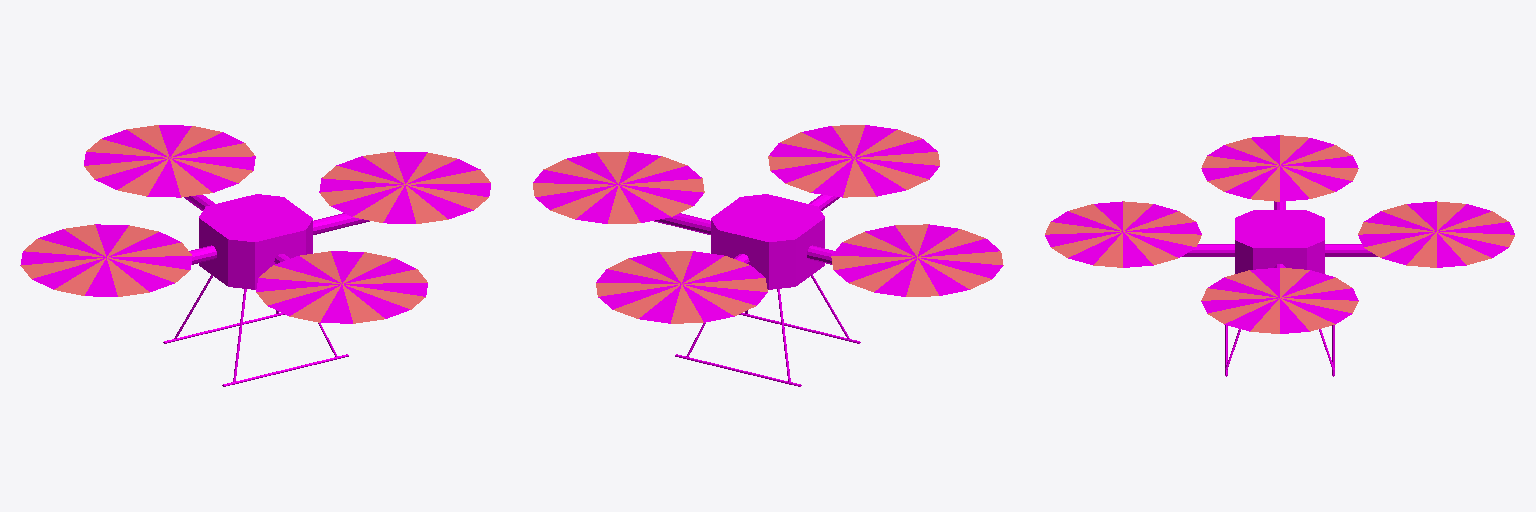
URDF robot description (quadrotor):
<?xml version="1.0" encoding="utf-8"?>
<!-- This quadrotor URDF and its accompanying mesh files originate from hector_quadrotor_description (BSD-licensed).
     The upstream repository is: https://github.com/tu-darmstadt-ros-pkg/hector_quadrotor
     -->
<robot name="quadrotor" 
  xmlns:xacro="http://www.ros.org/wiki/xacro">
  <link name="base_link">
    <inertial>
      <mass value="1.477"/>
      <origin xyz="0 0 0"/>
      <inertia ixx="0.01152" ixy="0.0" ixz="0.0" iyy="0.01152" iyz="0.0" izz="0.0218"/>
    </inertial>
    <visual>
      <origin rpy="0 0 0" xyz="0 0 0"/>
      <geometry>
        <mesh filename="package://exotica_examples/resources/robots/quadrotor/quadrotor_base.dae"/>
      </geometry>
    </visual>
    <collision>
      <origin rpy="0 0 0" xyz="0 0 0"/>
      <geometry>
        <mesh filename="package://exotica_examples/resources/robots/quadrotor/quadrotor_base.stl"/>
      </geometry>
    </collision>
  </link>
</robot>

--- Facts derived from the render (not from the file) ---
Views: 3 orthographic renders of the robot side by side, from view 1: azimuth 30°, elevation 25°; view 2: azimuth 150°, elevation 25°; view 3: azimuth 270°, elevation 25°.
Model quadrotor with 1 links and 0 joints (none), rooted at base_link, posed all joints at 0.
Links seen in each view (by area): view 1: base_link; view 2: base_link; view 3: base_link.
Link boxes in pixels (box(x1,y1,x2,y2)): base_link: box(20, 125, 490, 386); base_link: box(533, 125, 1003, 386); base_link: box(1045, 135, 1514, 376).
Size in the robot's own frame: 0.7911 by 0.7911 by 0.2225 metres.
1 mesh visuals loaded from 1 distinct referenced files (1 Collada DAE).